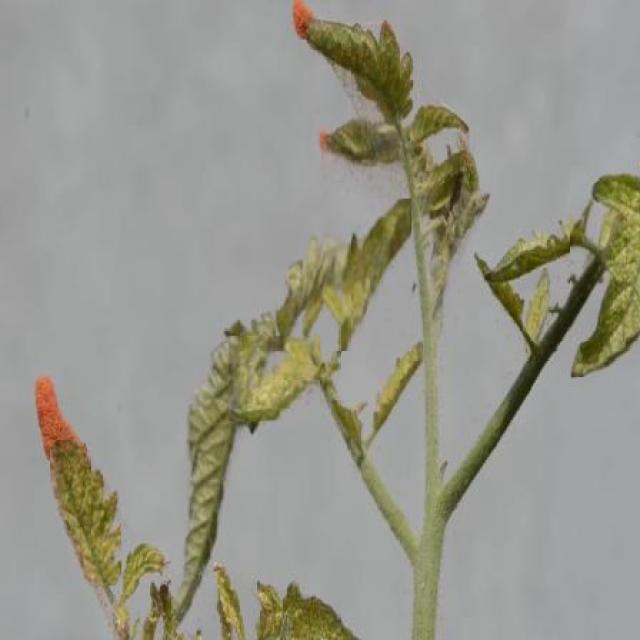Spider Mites: (570, 166, 640, 377), (322, 199, 412, 350), (50, 440, 121, 586), (228, 336, 320, 421)
